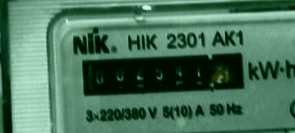0: (90, 63, 104, 85), (111, 61, 124, 82)
1: (190, 59, 202, 79)
2: (131, 61, 144, 81)
4: (171, 58, 184, 80)
5: (150, 59, 163, 82)
6: (212, 70, 224, 85)
screen: (69, 43, 253, 104)
